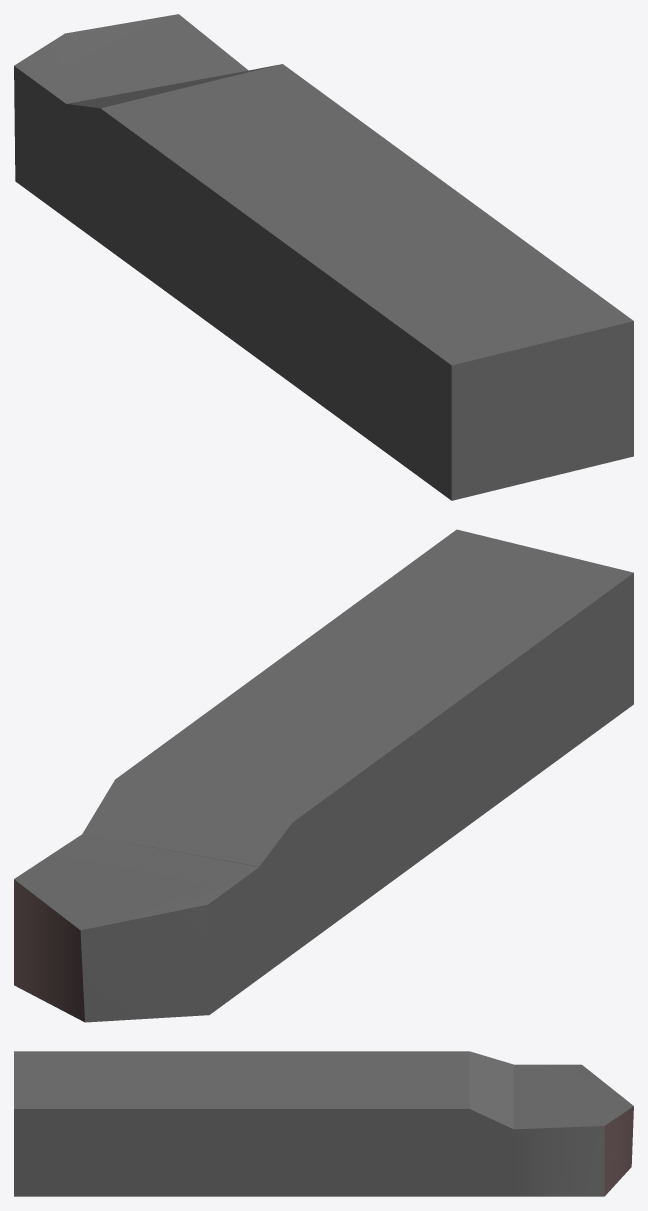
The model's file is renqinjiao02.FBX.
3 views of the same model, one above another, from view 1: azimuth 30°, elevation 25°; view 2: azimuth 150°, elevation 25°; view 3: azimuth 270°, elevation 25° (orthographic). The views are drawn at different scales.
Visible parts, largest first — view 1: 车刀构造; view 2: 车刀构造; view 3: 车刀构造.
Boxes of the visible parts, x1,y1,x2,y2 form: 车刀构造: (14, 14, 633, 500); 车刀构造: (14, 529, 633, 1022); 车刀构造: (14, 1051, 633, 1196).
Bounding box in the file's own units: 19.45 × 88.4 × 13.82.
